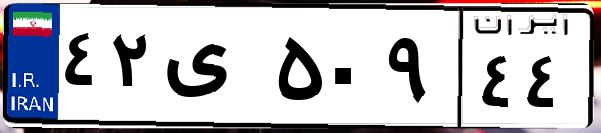0: (330, 28, 385, 110)
2: (110, 28, 158, 98)
4: (57, 26, 110, 100), (475, 38, 525, 113), (525, 38, 570, 115)
5: (270, 28, 330, 110)
9: (385, 28, 445, 110)
ی: (158, 20, 270, 120)
